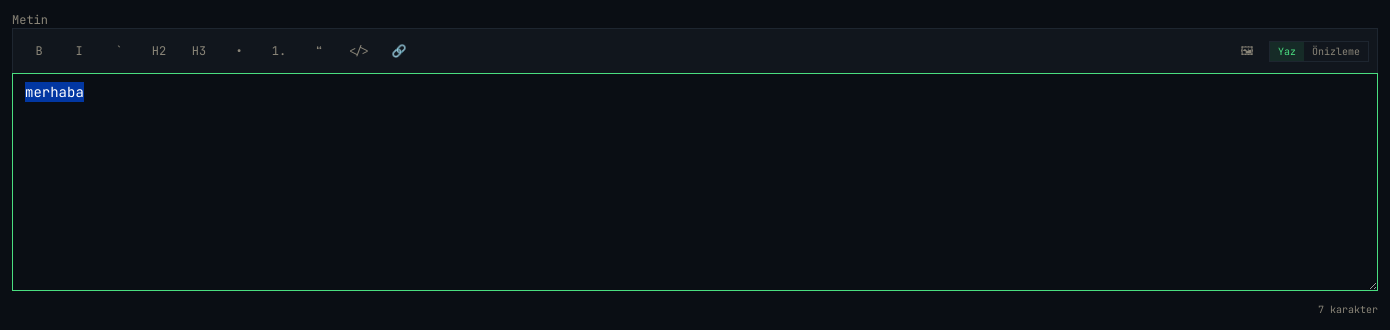
Test case: link wraps selection
Click the button named "Link" at [399, 51], box [381,33,417,69]
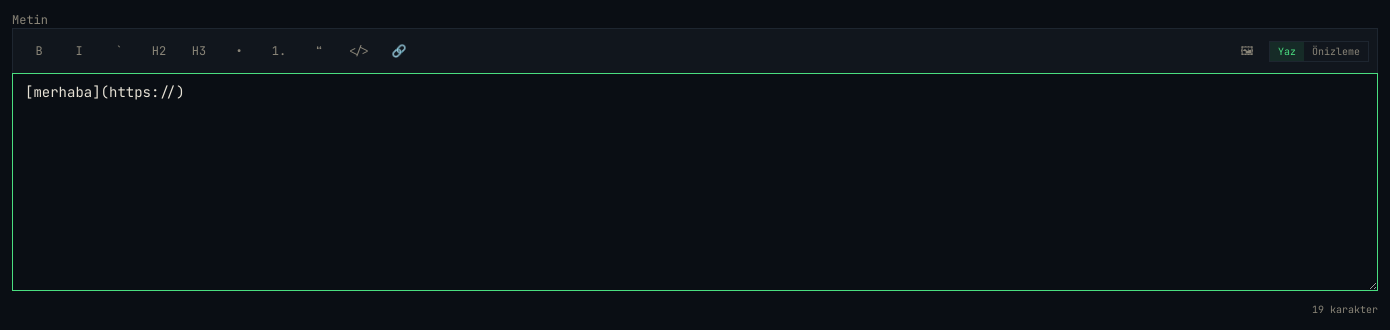
Result: the text box named "Metin" holds "[merhaba](https://)"
